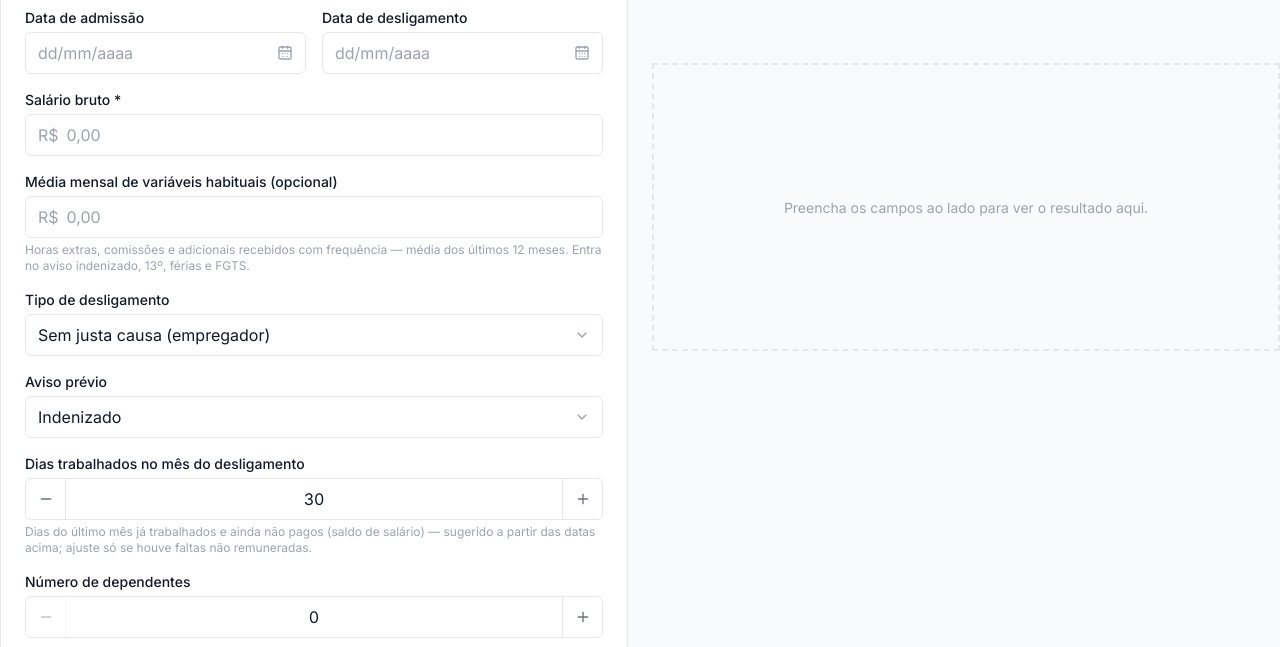
Test: TerminationCalculator › férias vencidas só entram quando a pessoa marca que tem
Step 1. Type "01/03/2026" into the field labelled "Data de admissão" → (148, 53), box [26,33,269,73]
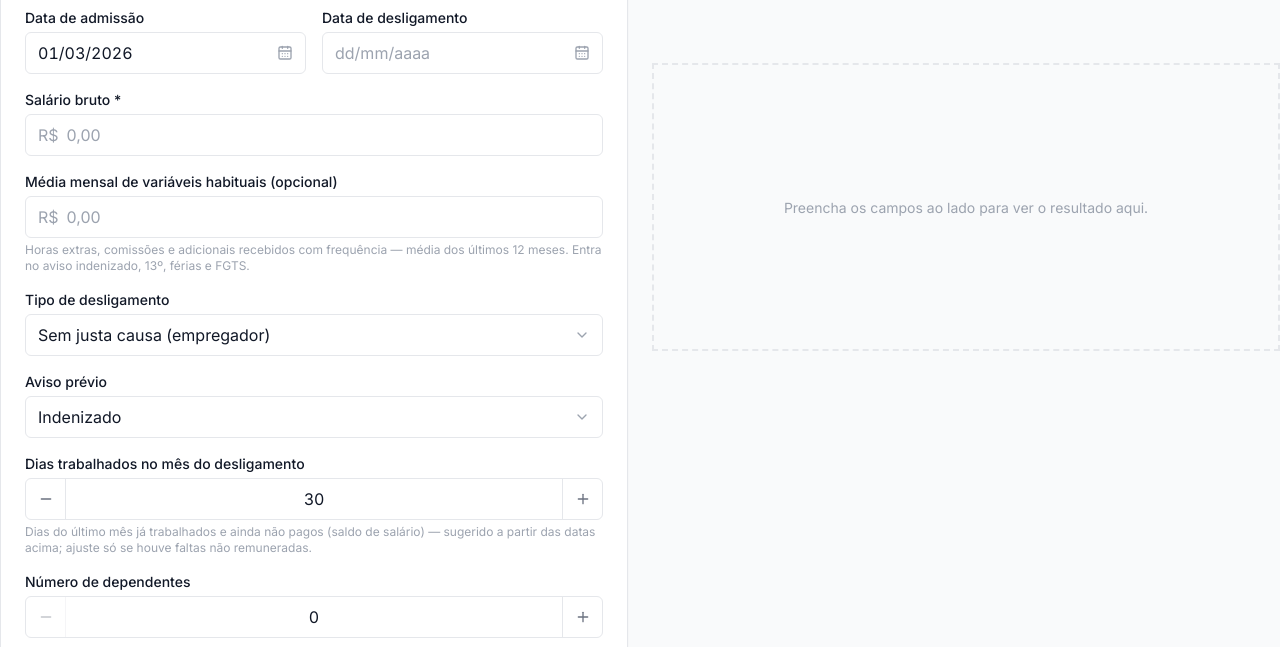
Step 2. Type "20/08/2026" into the field labelled "Data de desligamento" → (444, 53), box [323,33,566,73]
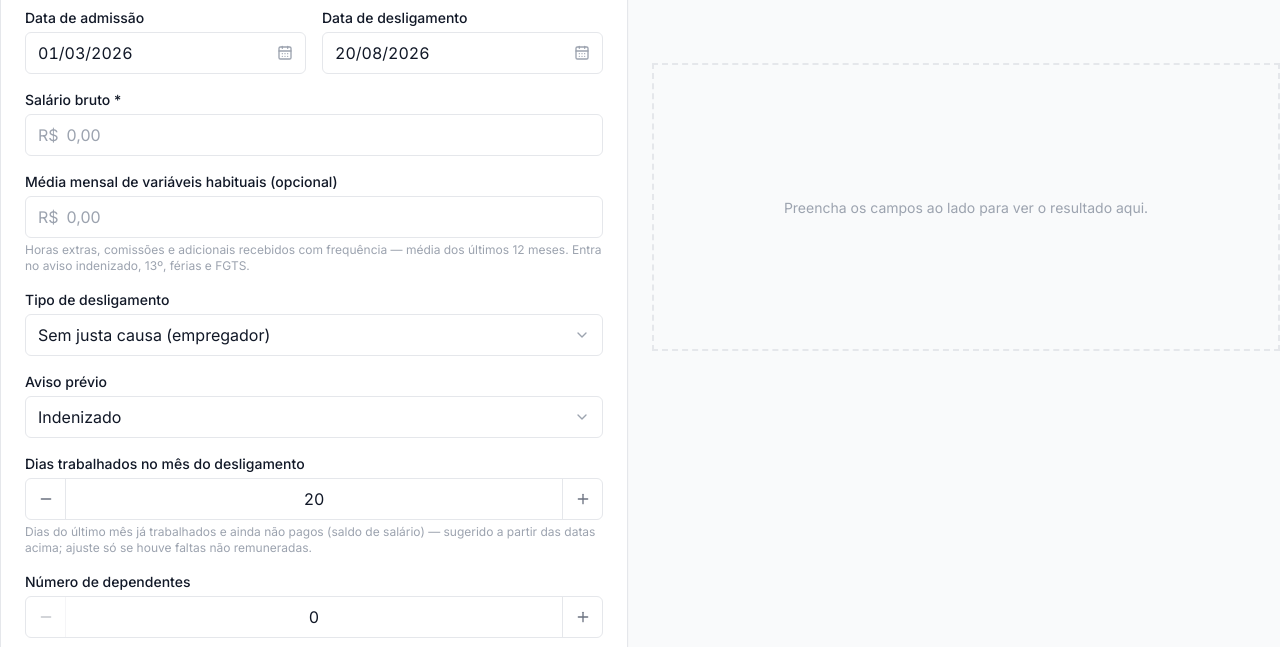
Step 3. Type "300000" into the field labelled "Salário bruto *" → (324, 135), box [59,115,590,155]
(page scrolled)
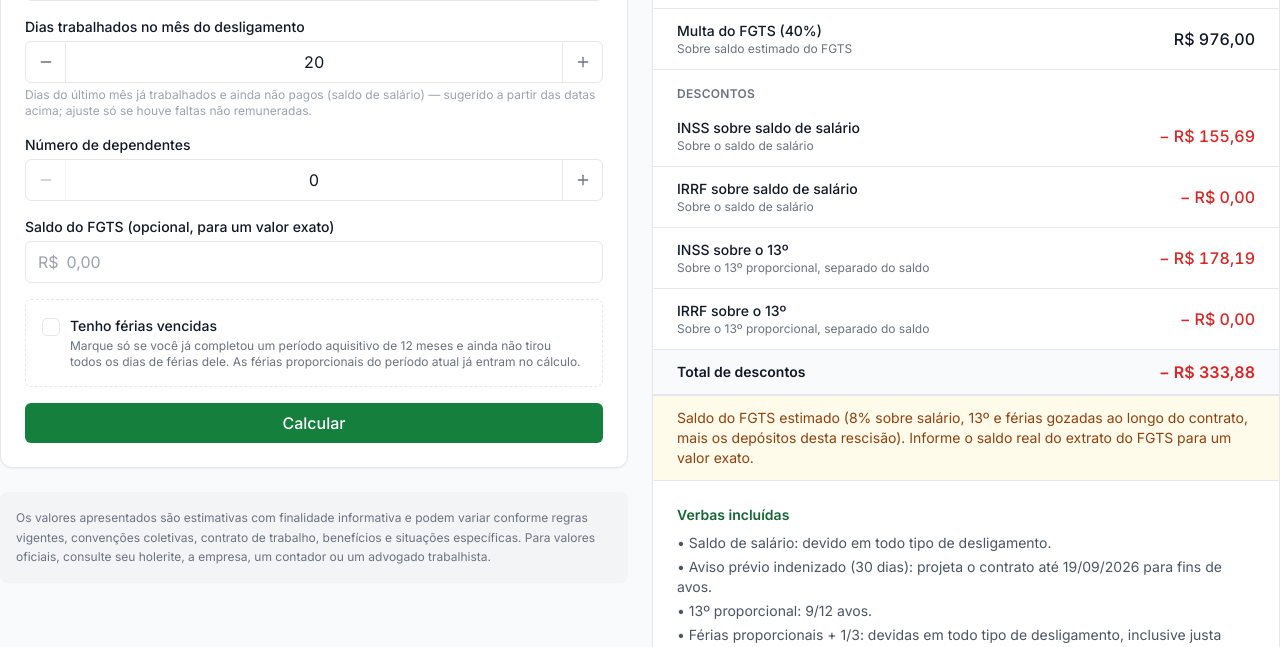
Expected: the text "Férias vencidas (" is not shown
Step 4. Click the checkbox labelled "Tenho férias vencidas" → (314, 343), box [42,316,586,370]
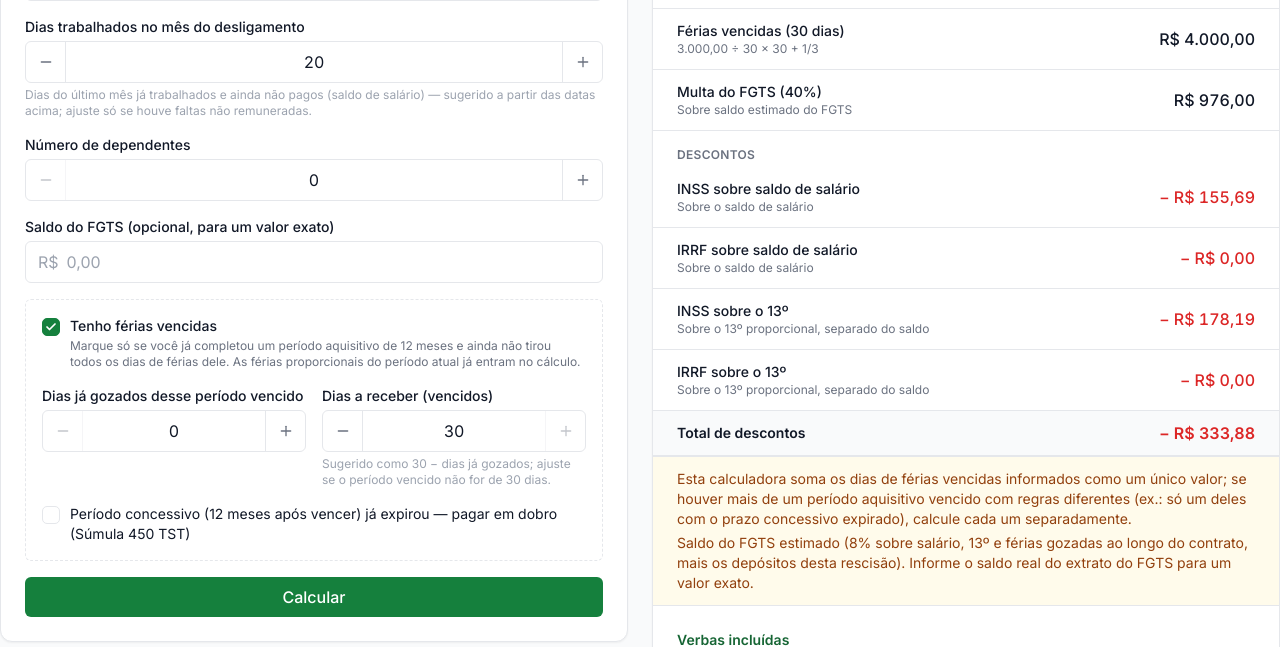
Expected: the text "Férias vencidas (30 dias)" is shown, [677,21,845,41]
